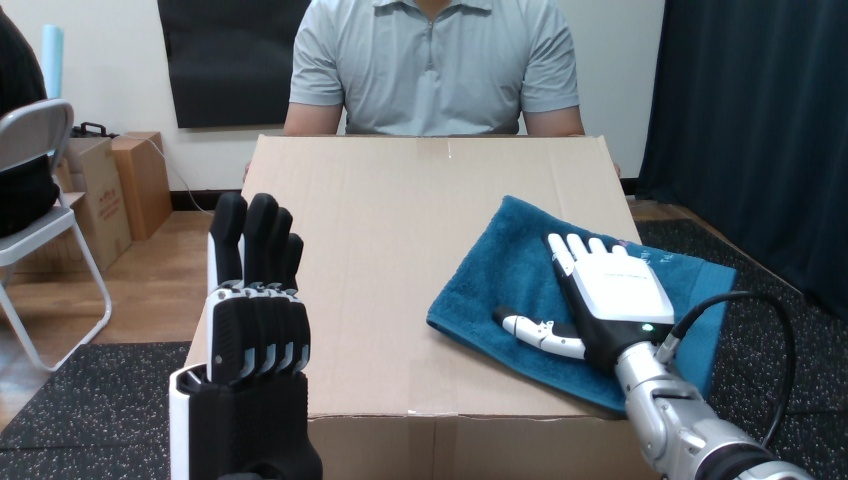left robot hand: (493, 233, 812, 479), (169, 193, 321, 478), (671, 297, 787, 443)
